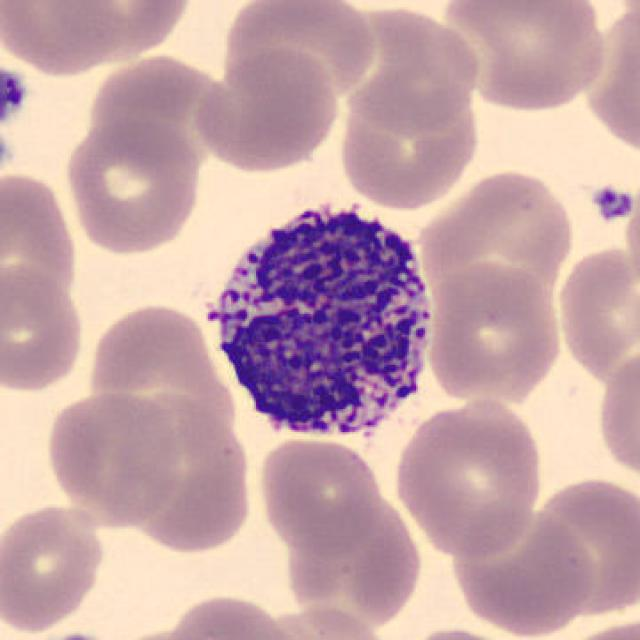Basophil: (196, 191, 444, 453)
Platelets: (586, 180, 636, 227), (0, 64, 30, 130), (0, 134, 14, 176)
RBC: (391, 395, 548, 561), (414, 164, 578, 317), (84, 298, 236, 453), (423, 259, 564, 407), (60, 115, 204, 258), (190, 46, 345, 174), (43, 388, 183, 529), (441, 0, 610, 115), (87, 51, 234, 181), (448, 504, 592, 636), (338, 74, 485, 202), (125, 405, 252, 553), (280, 492, 421, 624), (515, 471, 640, 617), (336, 8, 482, 131), (218, 0, 378, 106), (254, 434, 384, 557), (0, 498, 108, 636), (0, 166, 82, 328), (551, 240, 637, 381), (0, 264, 89, 395), (34, 0, 197, 67), (570, 0, 639, 151), (0, 0, 121, 78), (161, 590, 300, 640), (594, 340, 638, 487), (262, 603, 396, 640), (551, 615, 638, 640), (395, 624, 526, 640)
